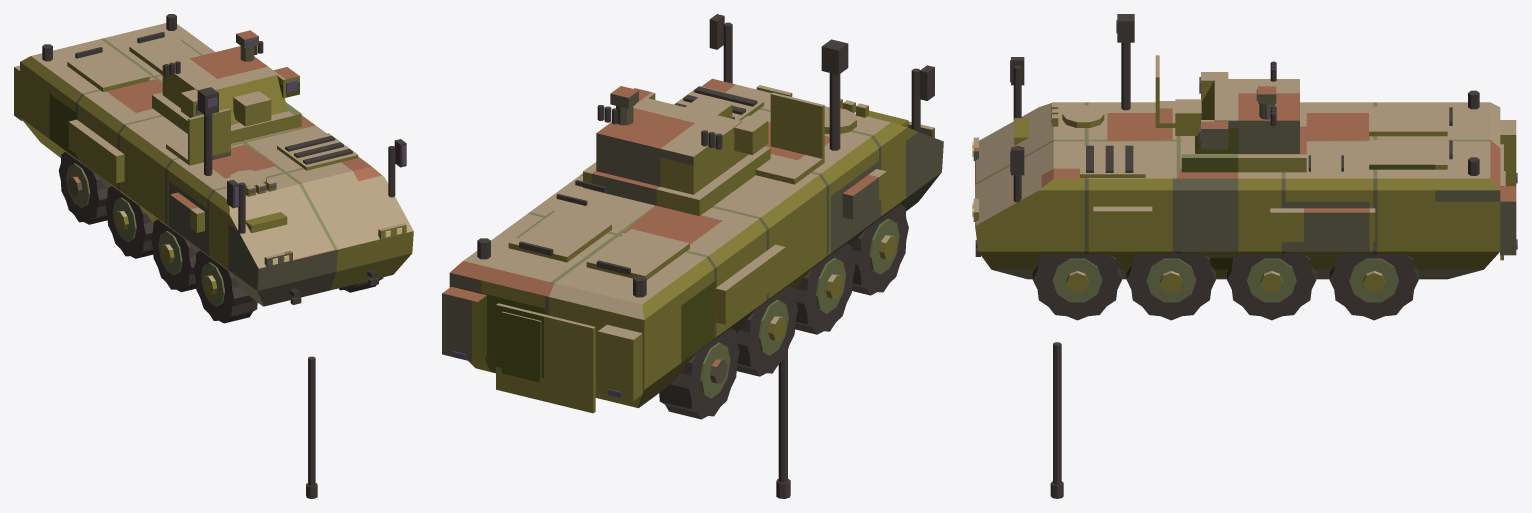
File: SM_VCR_Dragon_Animable_v2_Arido_LOD0.fbx
3 renders of one model, left to right at view 1: azimuth 30°, elevation 25°; view 2: azimuth 150°, elevation 25°; view 3: azimuth 270°, elevation 25°, orthographic. The views are drawn at different scales.
Parts seen in each view (by area): view 1: SM_bloques.dragon_animable_v2_LOD0, Torre, Rueda_1R, Rueda_4R, Rueda_3R, Rueda_2R, Canon; view 2: SM_bloques.dragon_animable_v2_LOD0, Torre, Rueda_4R, Rueda_3R, Rueda_2R, Rueda_1R, Canon; view 3: SM_bloques.dragon_animable_v2_LOD0, Torre, Rueda_3L, Rueda_2L, Rueda_4L, Rueda_1L, Canon.
Part boxes in pixels (x1,y1,x2,y2): SM_bloques.dragon_animable_v2_LOD0: (14, 14, 413, 306); Torre: (152, 30, 301, 143); Rueda_1R: (193, 250, 257, 323); Rueda_4R: (58, 152, 107, 224); Rueda_3R: (105, 186, 153, 258); Rueda_2R: (151, 219, 196, 292); Canon: (306, 356, 317, 498); SM_bloques.dragon_animable_v2_LOD0: (442, 14, 943, 413); Torre: (583, 86, 770, 216); Rueda_4R: (659, 328, 739, 419); Rueda_3R: (736, 285, 797, 376); Rueda_2R: (795, 243, 855, 334); Rueda_1R: (852, 204, 908, 295); Canon: (776, 350, 790, 498); SM_bloques.dragon_animable_v2_LOD0: (972, 14, 1517, 279); Torre: (1175, 61, 1306, 172); Rueda_3L: (1227, 254, 1316, 320); Rueda_2L: (1126, 254, 1215, 320); Rueda_4L: (1329, 254, 1418, 320); Rueda_1L: (1032, 254, 1121, 320); Canon: (1050, 342, 1063, 498).
Size of the model in its own units: 3.36 by 7.39 by 8.31.
